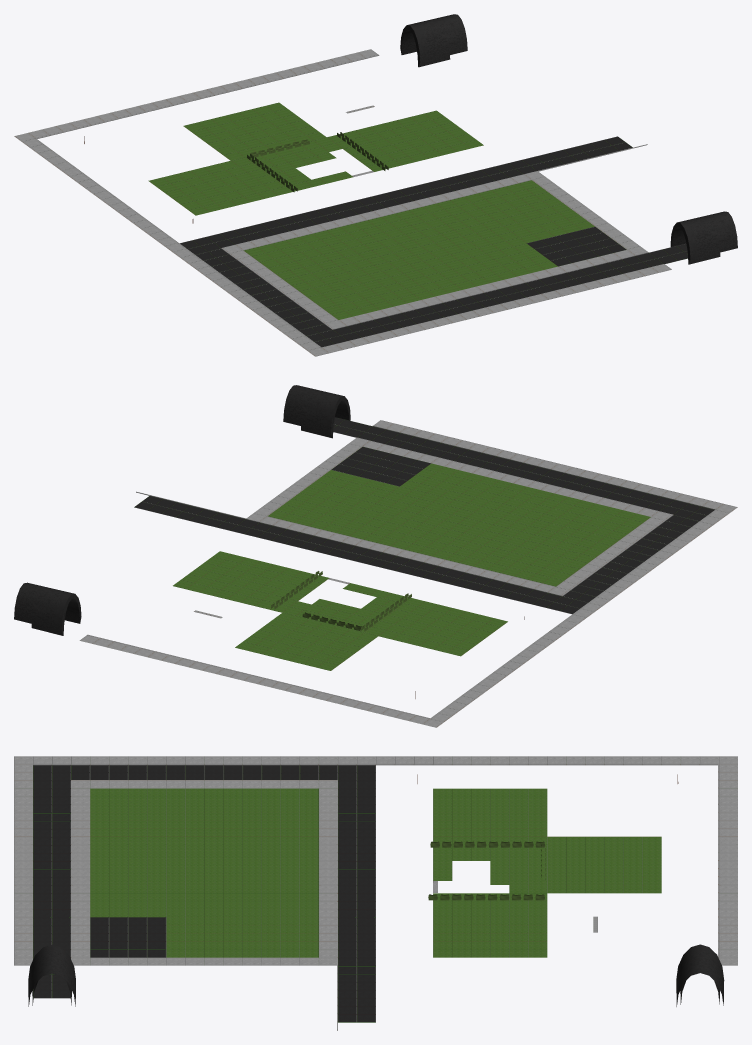
File: object_5_lev3.glb
The picture shows the model from 3 angles, top to bottom: view 1: azimuth 30°, elevation 25°; view 2: azimuth 150°, elevation 25°; view 3: azimuth 270°, elevation 25°; orthographic projection. The views are drawn at different scales.
Parts seen in each view (by area): view 1: object_5_lev3; view 2: object_5_lev3; view 3: object_5_lev3.
Part boxes in pixels (bbox=[...]): object_5_lev3: bbox=[14, 14, 737, 356]; object_5_lev3: bbox=[14, 385, 737, 727]; object_5_lev3: bbox=[14, 756, 737, 1030].
Size of the model in its own units: 72.46 by 5.27 by 80.98.
Materials: 1 (1 with a texture image).
